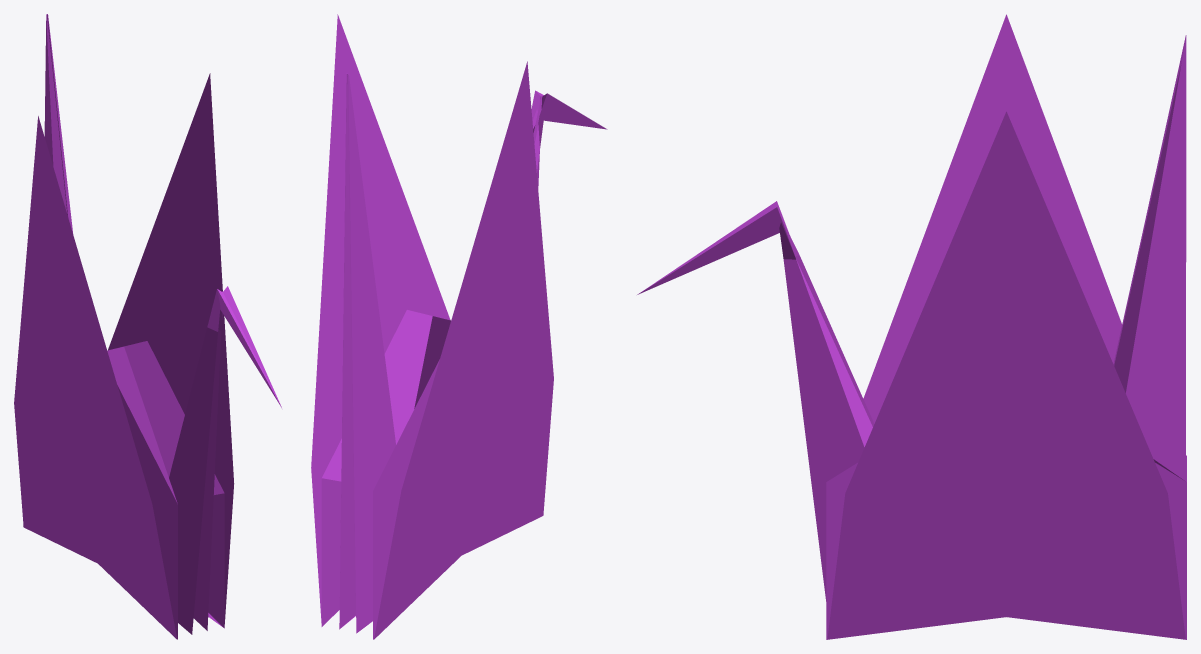
File: AnimatedCrane.glb
3 views of the same model, side by side, from view 1: azimuth 30°, elevation 25°; view 2: azimuth 150°, elevation 25°; view 3: azimuth 270°, elevation 25° (orthographic). The views are drawn at different scales.
Visible parts, largest first — view 1: wing 2, wing 1, neck, crane bod, tail2; view 2: wing 2, wing 1, tail2, crane bod, neck; view 3: wing 1, wing 2, tail2, neck, crane bod.
Boxes of the visible parts, bbox=[...] form: wing 2: bbox=[14, 116, 177, 639]; wing 1: bbox=[108, 73, 234, 623]; neck: bbox=[169, 286, 281, 634]; crane bod: bbox=[23, 341, 224, 639]; tail2: bbox=[44, 14, 72, 232]; wing 2: bbox=[374, 61, 553, 639]; wing 1: bbox=[311, 14, 450, 622]; tail2: bbox=[339, 74, 395, 633]; crane bod: bbox=[321, 310, 450, 639]; neck: bbox=[531, 90, 607, 188]; wing 1: bbox=[827, 111, 1185, 639]; wing 2: bbox=[863, 14, 1122, 423]; tail2: bbox=[1113, 35, 1186, 481]; neck: bbox=[637, 201, 874, 601]; crane bod: bbox=[826, 455, 1186, 639].
Size of the model in its own units: 0.9995 by 2.82 by 2.38.
